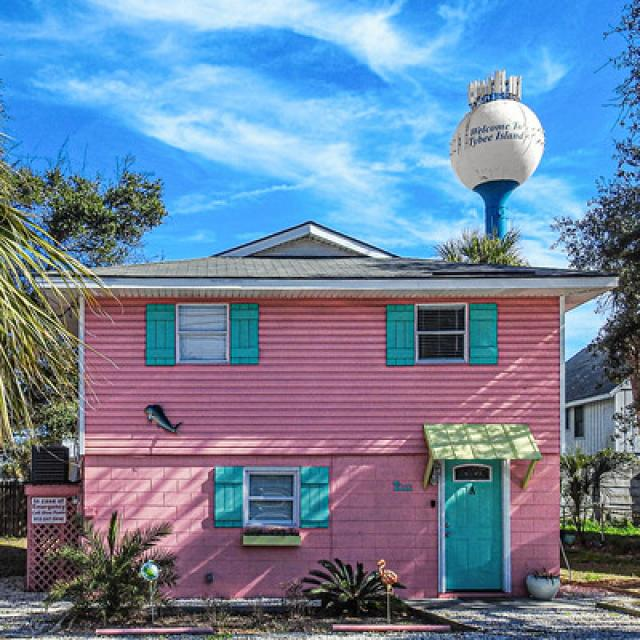Normal_building: (13, 222, 621, 608)
